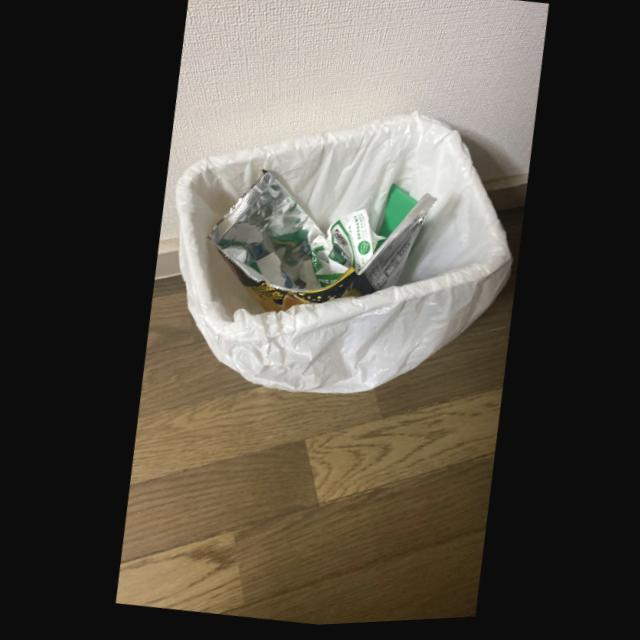paper: (308, 213, 384, 289), (371, 188, 415, 257)
wrapper: (206, 175, 435, 315)
